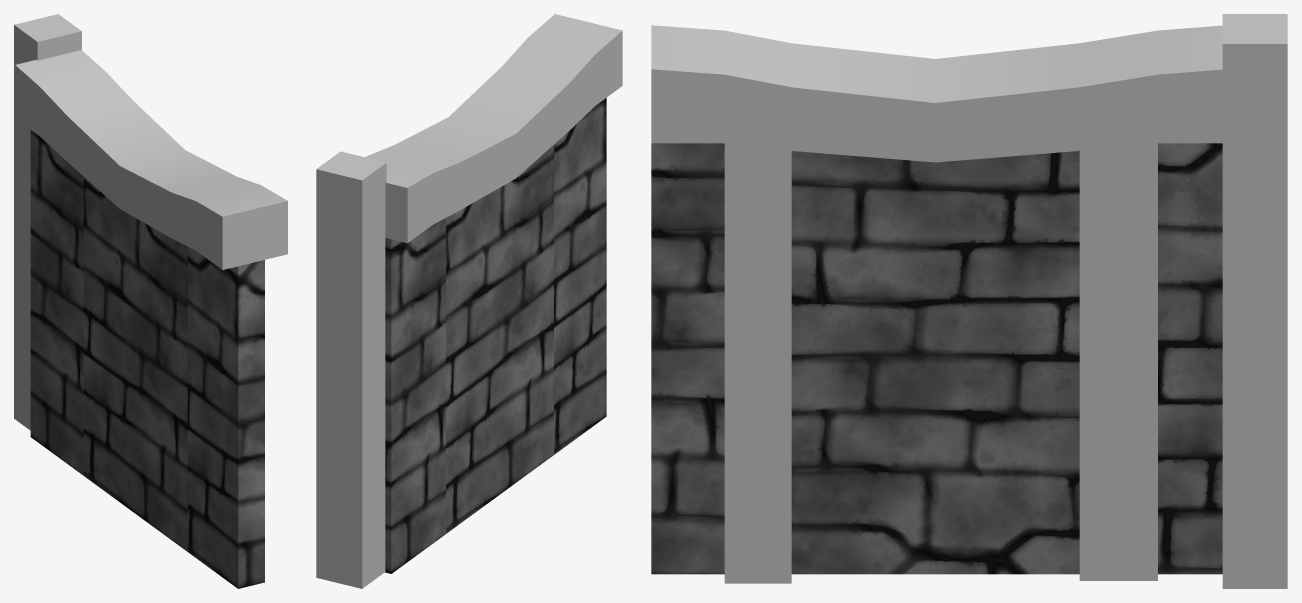
Rendered from muur_1.fbx.
The picture shows the model from 3 angles, left to right: view 1: azimuth 30°, elevation 25°; view 2: azimuth 150°, elevation 25°; view 3: azimuth 270°, elevation 25°; orthographic projection. The views are drawn at different scales.
Parts seen in each view (by area): view 1: Muur_1, balk1; view 2: Muur_1, balk1; view 3: Muur_1, balk1.
Part boxes in pixels (x1,y1,x2,y2): Muur_1: (15, 50, 287, 588); balk1: (14, 14, 81, 430); Muur_1: (365, 14, 622, 573); balk1: (316, 151, 386, 588); Muur_1: (651, 25, 1222, 583); balk1: (1222, 14, 1287, 588).
Bounding box in the file's own units: 0.3648 × 2.1 × 2.22.
